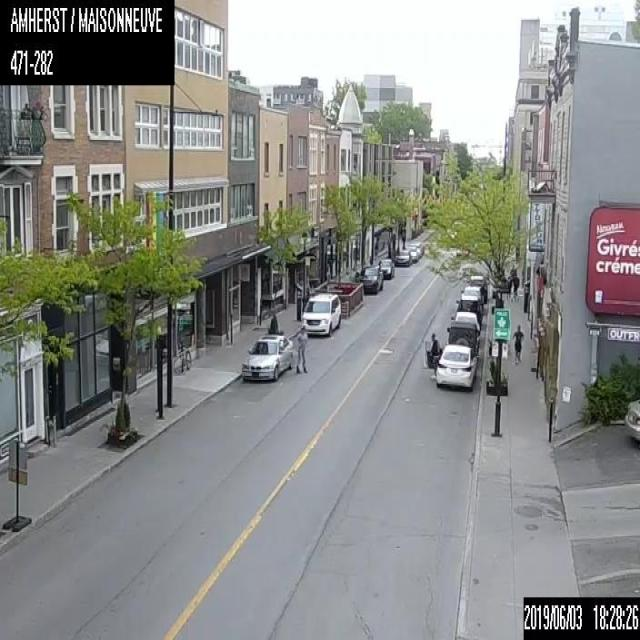construction: (4, 437, 31, 531)
pedestrian: (508, 323, 525, 364), (295, 324, 308, 373), (428, 331, 438, 380), (507, 268, 519, 300), (266, 310, 282, 334)
vehicle: (422, 337, 476, 390), (239, 331, 295, 380), (301, 291, 341, 336), (446, 321, 478, 352), (450, 310, 480, 340), (456, 295, 482, 325), (357, 264, 382, 294), (459, 285, 484, 310), (466, 274, 488, 302), (378, 258, 393, 278), (393, 249, 411, 265), (405, 245, 417, 261)
